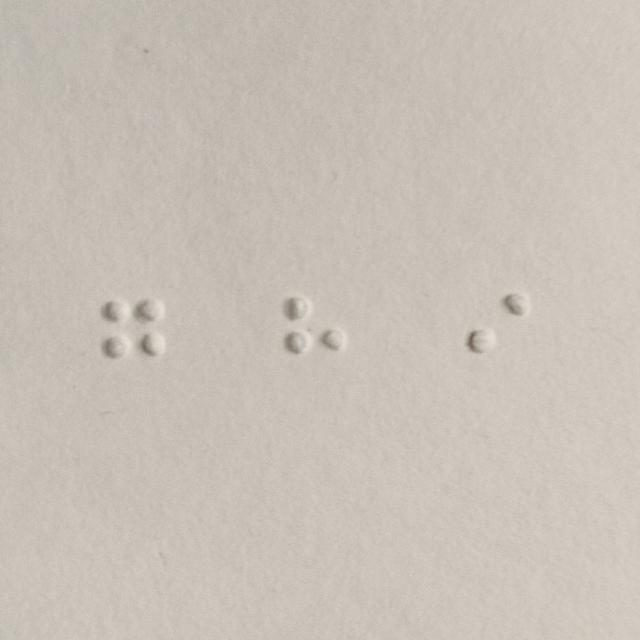letter_g: (99, 294, 167, 387)
letter_h: (281, 293, 349, 386)
letter_i: (465, 291, 532, 384)
